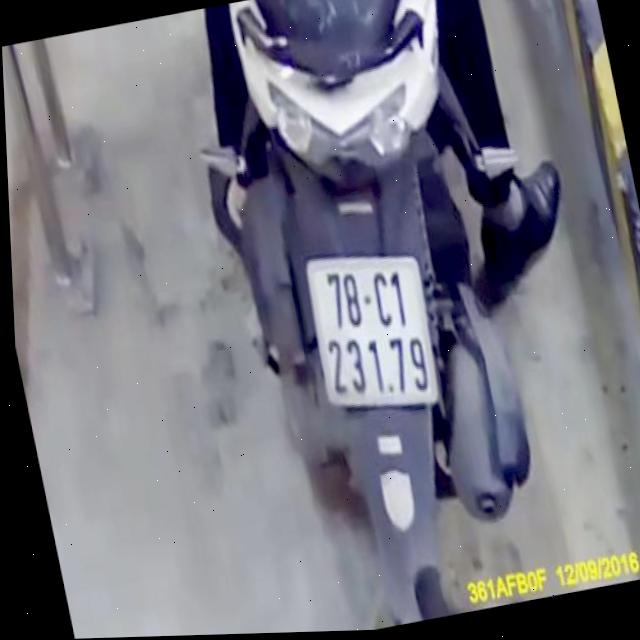motorcycle: (182, 0, 576, 635)
plate: (291, 233, 449, 423)
